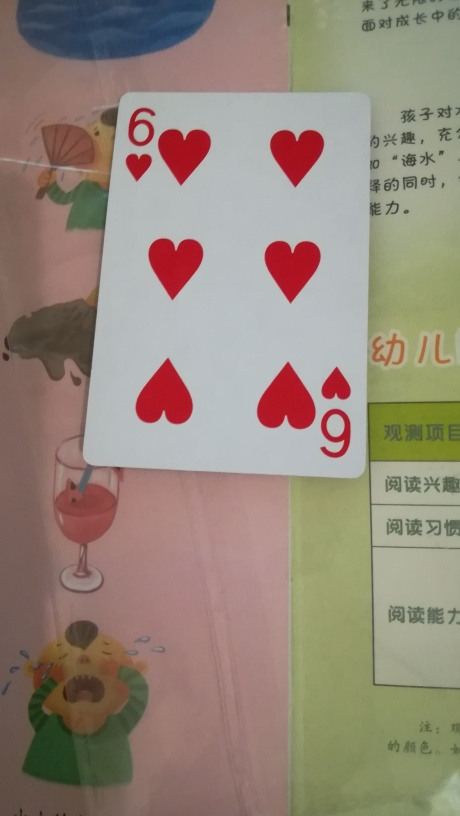hx 6: (79, 93, 368, 483)
